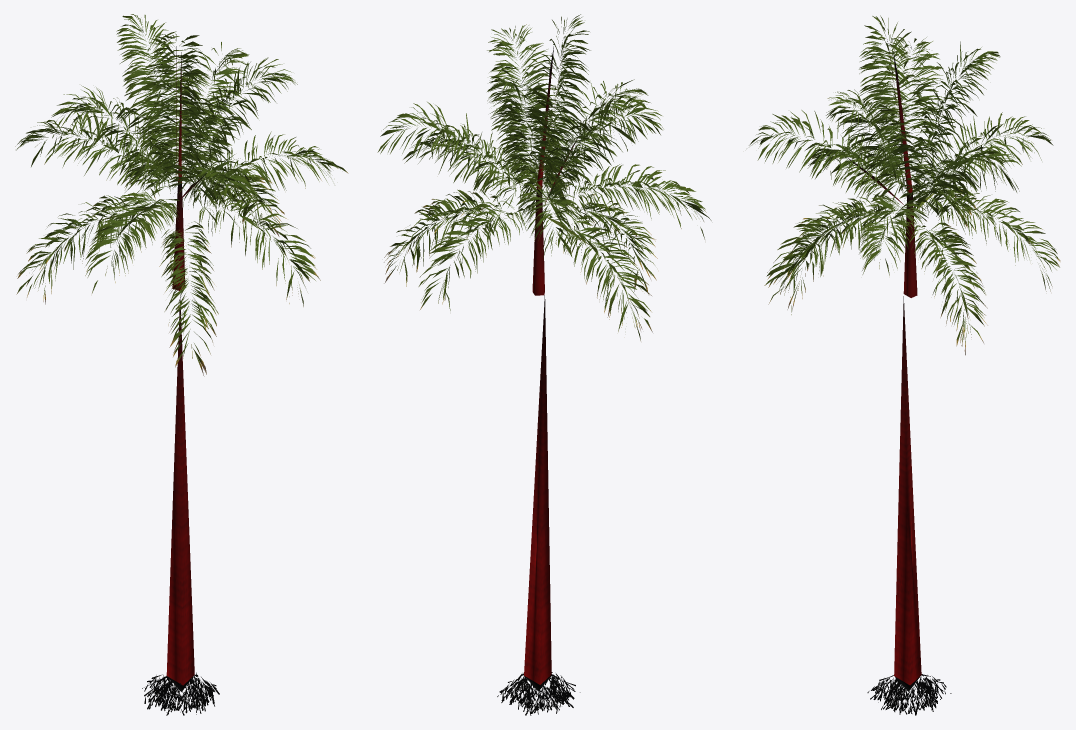
Rendered from palm_royal_mid.glb.
3 views of the same model, side by side, from view 1: azimuth 30°, elevation 25°; view 2: azimuth 150°, elevation 25°; view 3: azimuth 270°, elevation 25° (orthographic).
Parts seen in each view (by area): view 1: Roystonea_regia_HD; view 2: Roystonea_regia_HD; view 3: Roystonea_regia_HD.
Part boxes in pixels (x1=…): Roystonea_regia_HD: x1=15, y1=14, x2=348, y2=715; Roystonea_regia_HD: x1=377, y1=14, x2=711, y2=715; Roystonea_regia_HD: x1=749, y1=15, x2=1060, y2=715.
Size of the model in its own units: 7.33 by 17.03 by 7.24.
8 materials, 8 textured.
